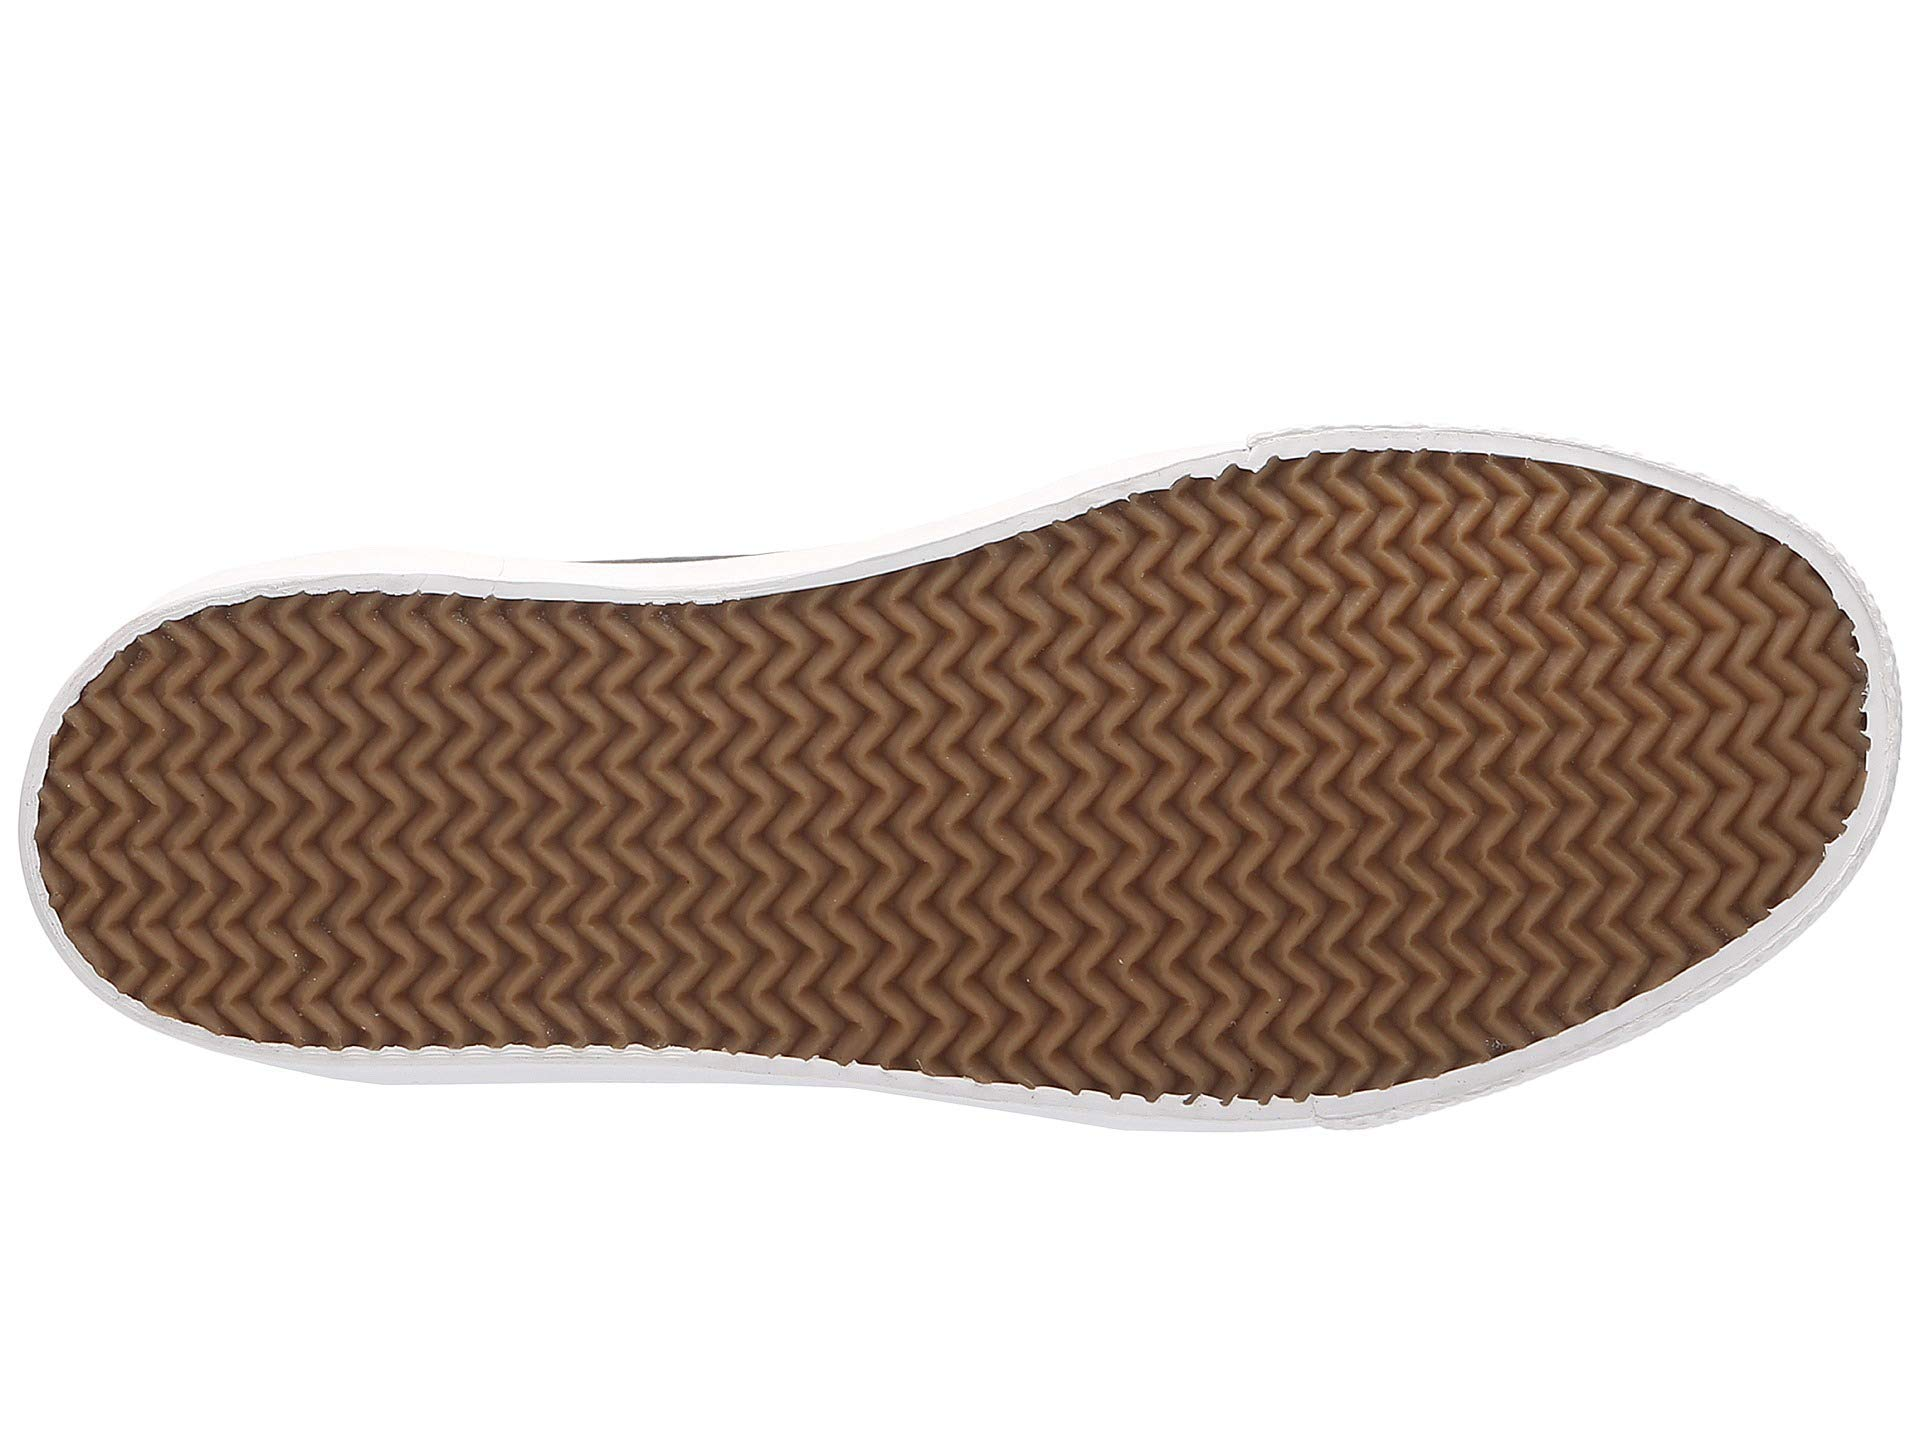chevron: (810, 625, 1302, 998)
